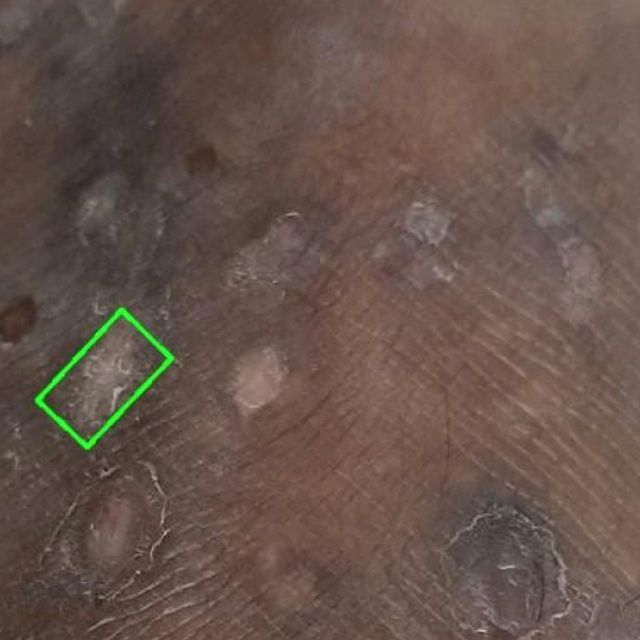Contact Dermatitis: (36, 309, 171, 446)
